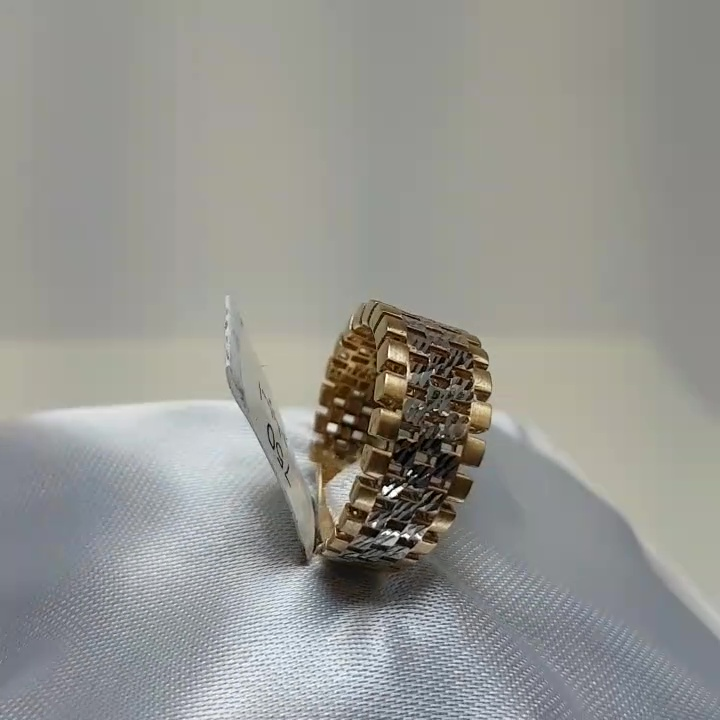Ring 1: (246, 267, 508, 574)
